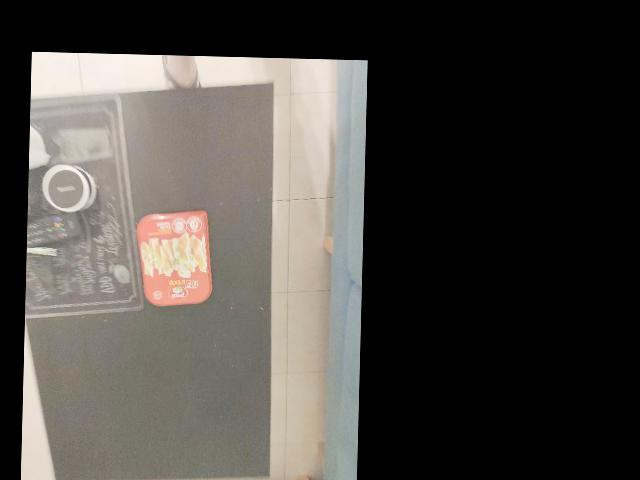cheese: (138, 198, 218, 305)
